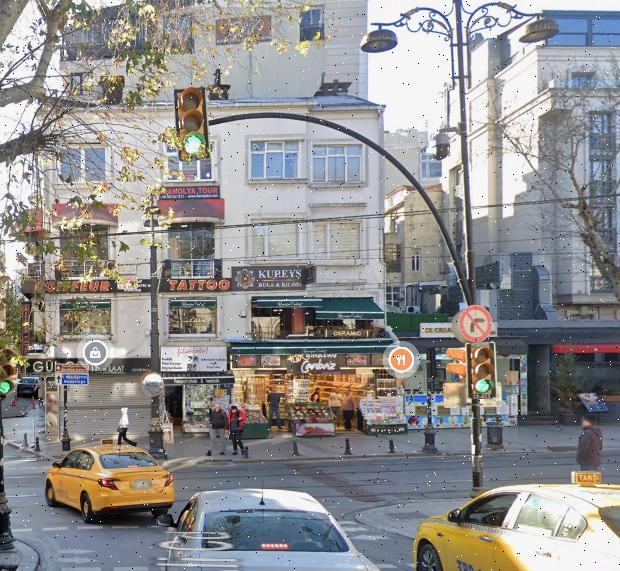greenlight: (174, 88, 207, 154), (469, 344, 495, 400), (0, 348, 16, 396)
rightturnsareforbidden: (460, 308, 493, 340)
